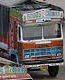truck: (1, 1, 63, 77)
